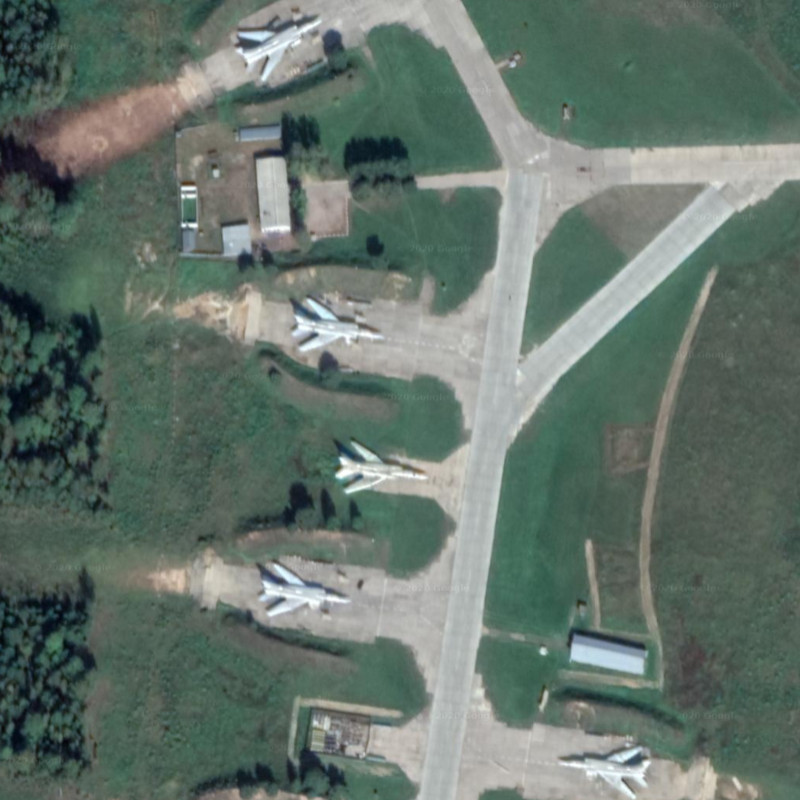A12: (240, 553, 355, 628), (324, 431, 433, 507), (226, 10, 334, 83), (281, 293, 393, 357), (551, 733, 659, 797)
